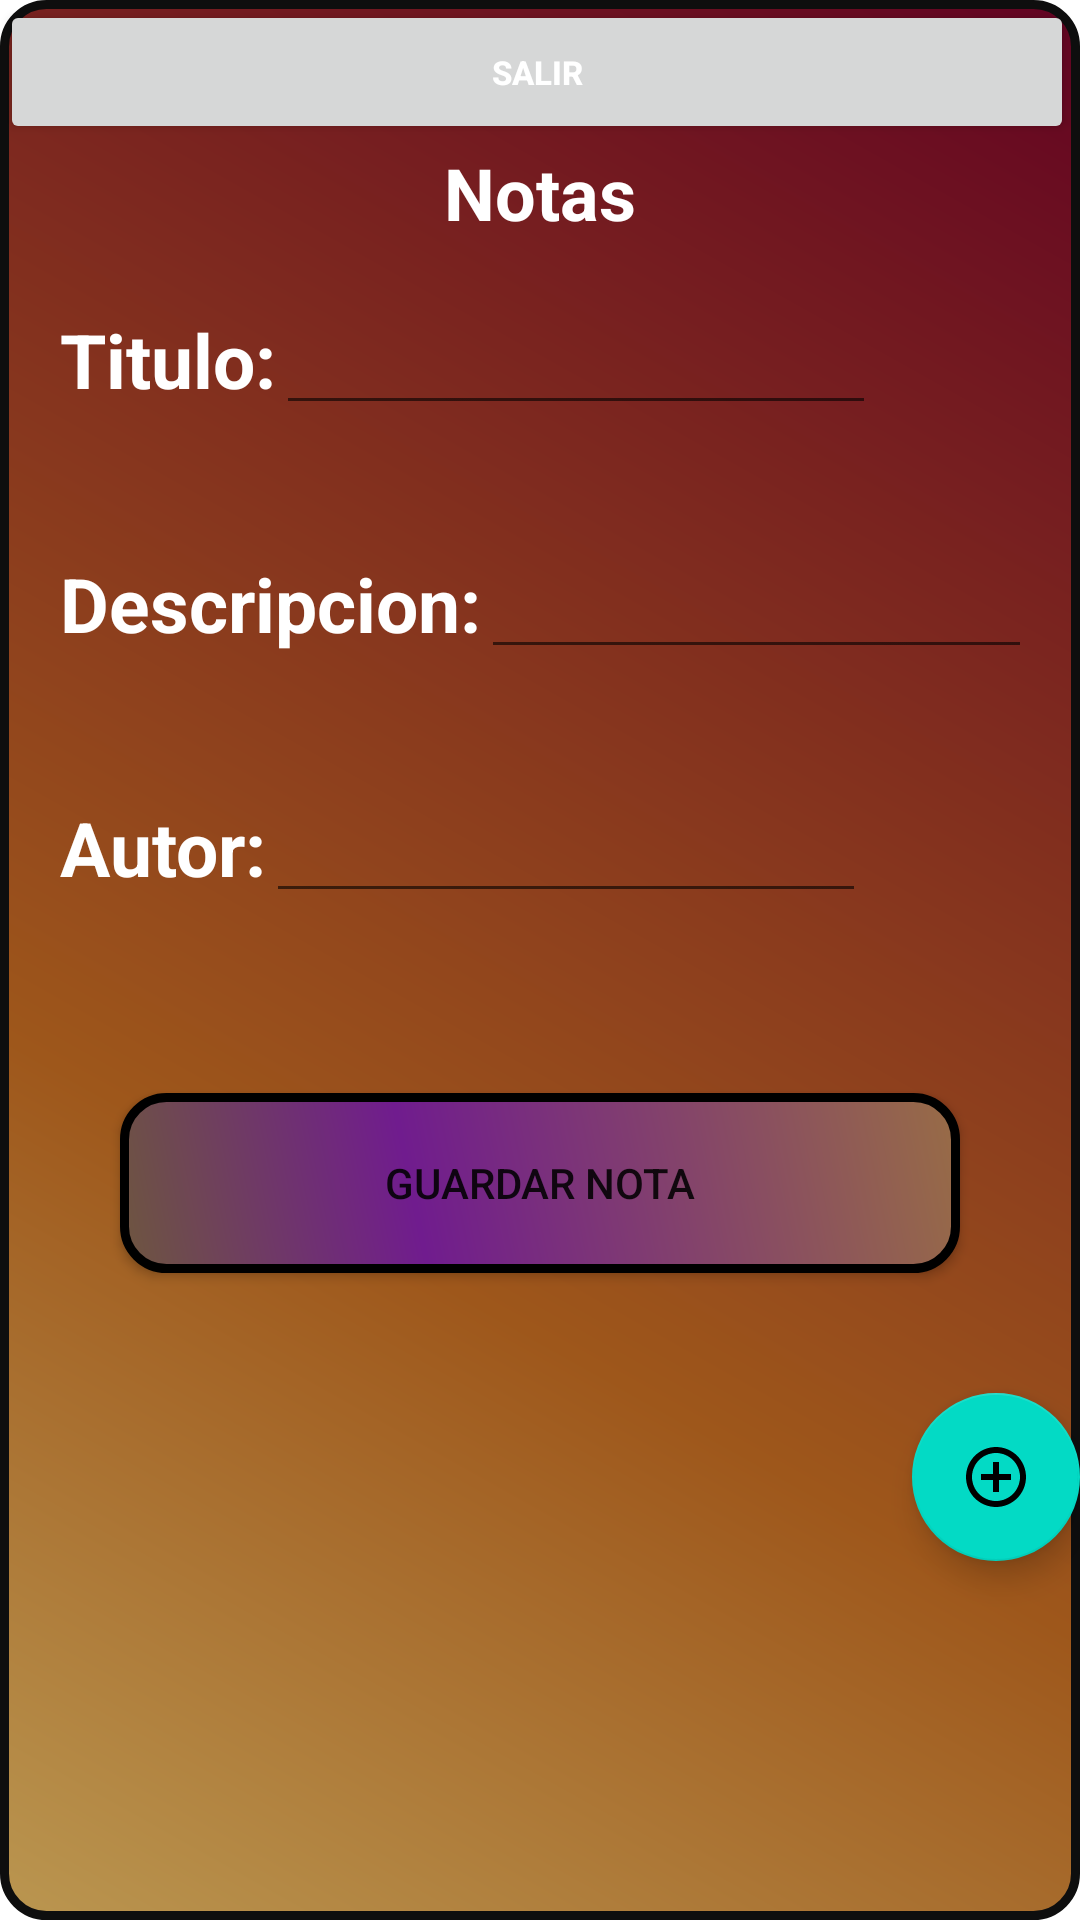

Named icons in this screenshot (1080×1920) and their centers, (x=x, y=y):
sum: (x=996, y=1477)
